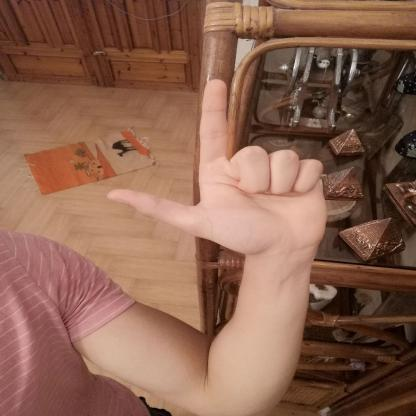LAAM: (88, 66, 350, 271)
